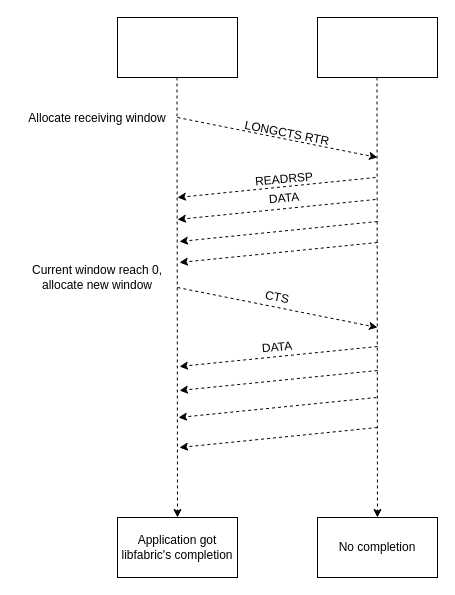
Image size: 455x595. Some labels were removed from this diagram. The centre of each missing label's shape, as x and y in pixels:
Application call libfabric's read API: the point at 177,47
Responder's progress engine: the point at 377,47
